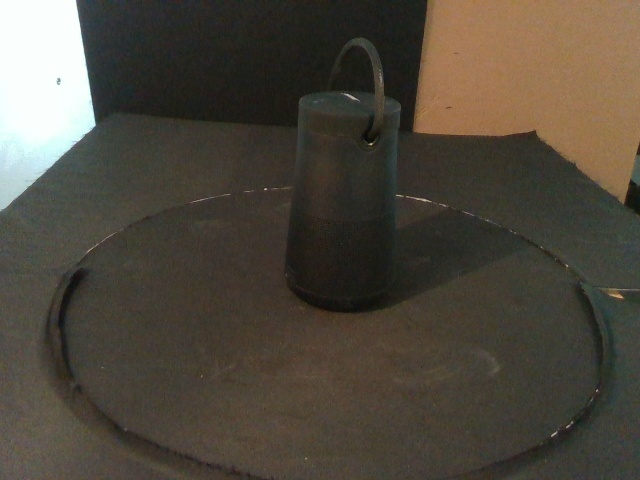speaker: (285, 90, 402, 313)
